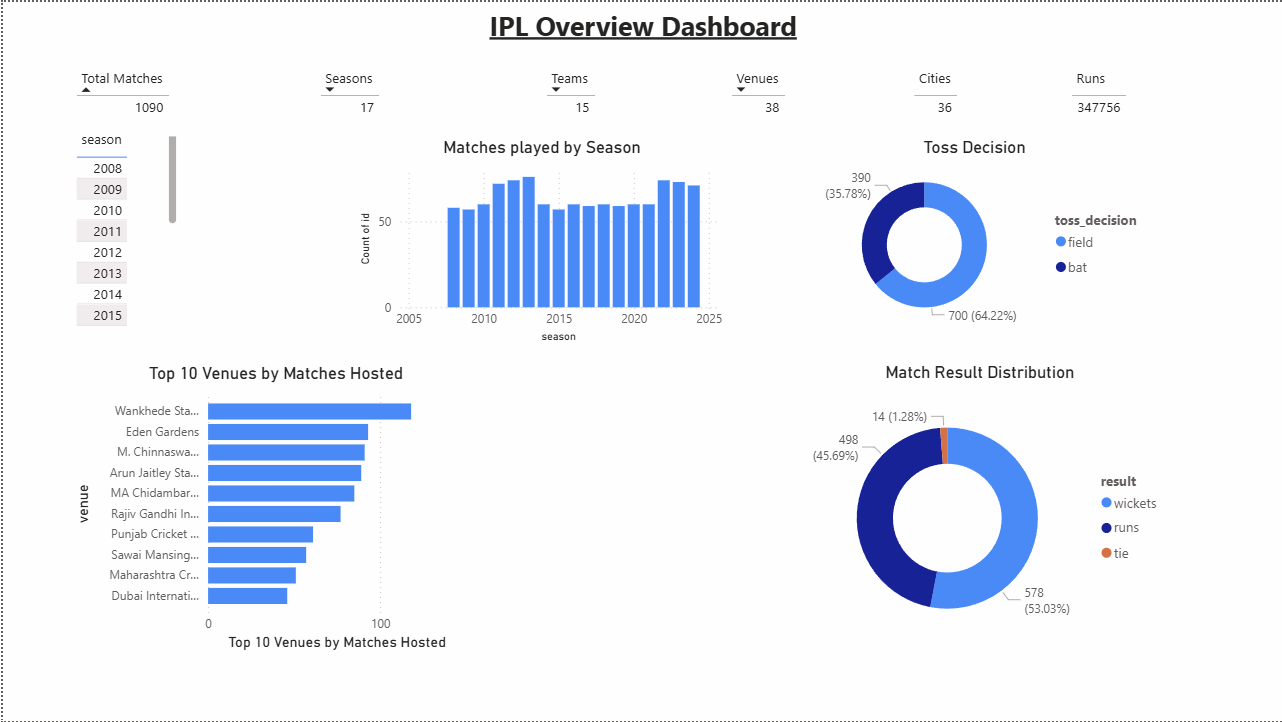

The page's visual inventory and layout, read from the dashboard file:
{"tool":"powerbi","page":{"name":"Page 1","canvas":[1280,720],"ordinal":0},"visuals":[{"type":"tableEx","fields":{"Values":["Count(matches_cleaned.season)"]},"box":[311.8,59.9,108.8,74.6],"z":0},{"type":"tableEx","fields":{"Values":["matches_cleaned.venue"]},"box":[722.7,59.9,97.8,74.6],"z":1000},{"type":"tableEx","fields":{"Values":["matches_cleaned.city"]},"box":[904.9,59.9,85.6,74.6],"z":2000},{"type":"tableEx","fields":{"Values":["Sum(deliveries_cleaned.total_runs)"]},"box":[1062.5,60,93.8,75],"z":3000},{"type":"tableEx","fields":{"Values":["deliveries_cleaned.Total Teams"]},"box":[538,59.9,101.5,74.6],"z":4000},{"type":"tableEx","fields":{"Values":["matches_cleaned.season"]},"box":[67.3,121.1,111.3,210.3],"z":5000},{"type":"clusteredColumnChart","title":"Matches played by Season","fields":{"Category":["matches_cleaned.season"],"Y":["CountNonNull(matches_cleaned.id)"]},"box":[352.2,134.5,373,210.3],"z":6000},{"type":"barChart","title":"Top 10 Venues by Matches Hosted ","fields":{"Category":["matches_cleaned.venue"],"Y":["CountNonNull(matches_cleaned.id)"]},"box":[67.3,360.7,410.9,292.3],"z":7000},{"type":"tableEx","title":"Total Matches ","fields":{"Values":["matches_cleaned.id"]},"box":[67.3,59.9,134.5,74.6],"z":8000},{"type":"donutChart","title":"Toss Decision","fields":{"Category":["matches_cleaned.toss_decision"],"Y":["CountNonNull(matches_cleaned.id)"]},"box":[786.3,134.5,370.5,196.9],"z":9000},{"type":"donutChart","title":"Match Result Distribution","fields":{"Category":["matches_cleaned.result"],"Y":["CountNonNull(matches_cleaned.id)"]},"box":[786.3,359.5,381.5,293.5],"z":10000},{"type":"textbox","box":[0,0,1280.3,59.9],"z":12000}]}

Visuals, with their boxes in screenshot pixels (x1, y1, x2, y2), scaled from the page's 1280x720 canvas onto the 1282x722 screenshot:
tableEx - Count(matches_cleaned.season): [left=312, top=60, right=421, bottom=135]
tableEx - matches_cleaned.venue: [left=724, top=60, right=822, bottom=135]
tableEx - matches_cleaned.city: [left=906, top=60, right=992, bottom=135]
tableEx - Sum(deliveries_cleaned.total_runs): [left=1064, top=60, right=1158, bottom=135]
tableEx - deliveries_cleaned.Total Teams: [left=539, top=60, right=640, bottom=135]
tableEx - matches_cleaned.season: [left=67, top=121, right=179, bottom=332]
"Matches played by Season" clusteredColumnChart: [left=353, top=135, right=726, bottom=346]
"Top 10 Venues by Matches Hosted " barChart: [left=67, top=362, right=479, bottom=655]
"Total Matches " tableEx: [left=67, top=60, right=202, bottom=135]
"Toss Decision" donutChart: [left=788, top=135, right=1159, bottom=332]
"Match Result Distribution" donutChart: [left=788, top=360, right=1170, bottom=655]
textbox: [left=0, top=0, right=1281, bottom=60]
